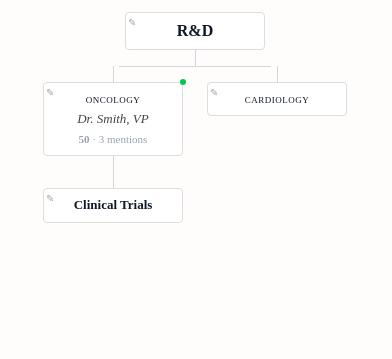
it: TreeView › cancels edit when Cancel clicked
Click the button "✎" next to "Oncology" at (50, 92), box [46, 85, 54, 100]
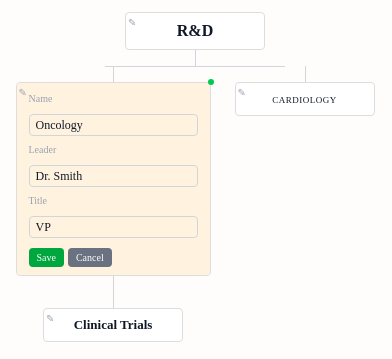
Click the button "Cancel" at (90, 258), box [68, 248, 112, 267]
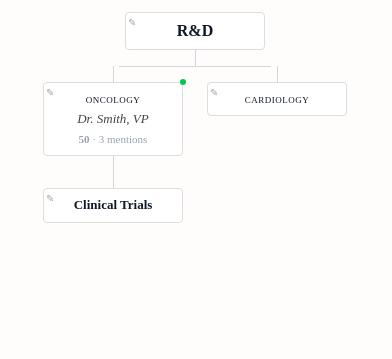
Now the text "Oncology" is shown, box [86, 91, 140, 106]
